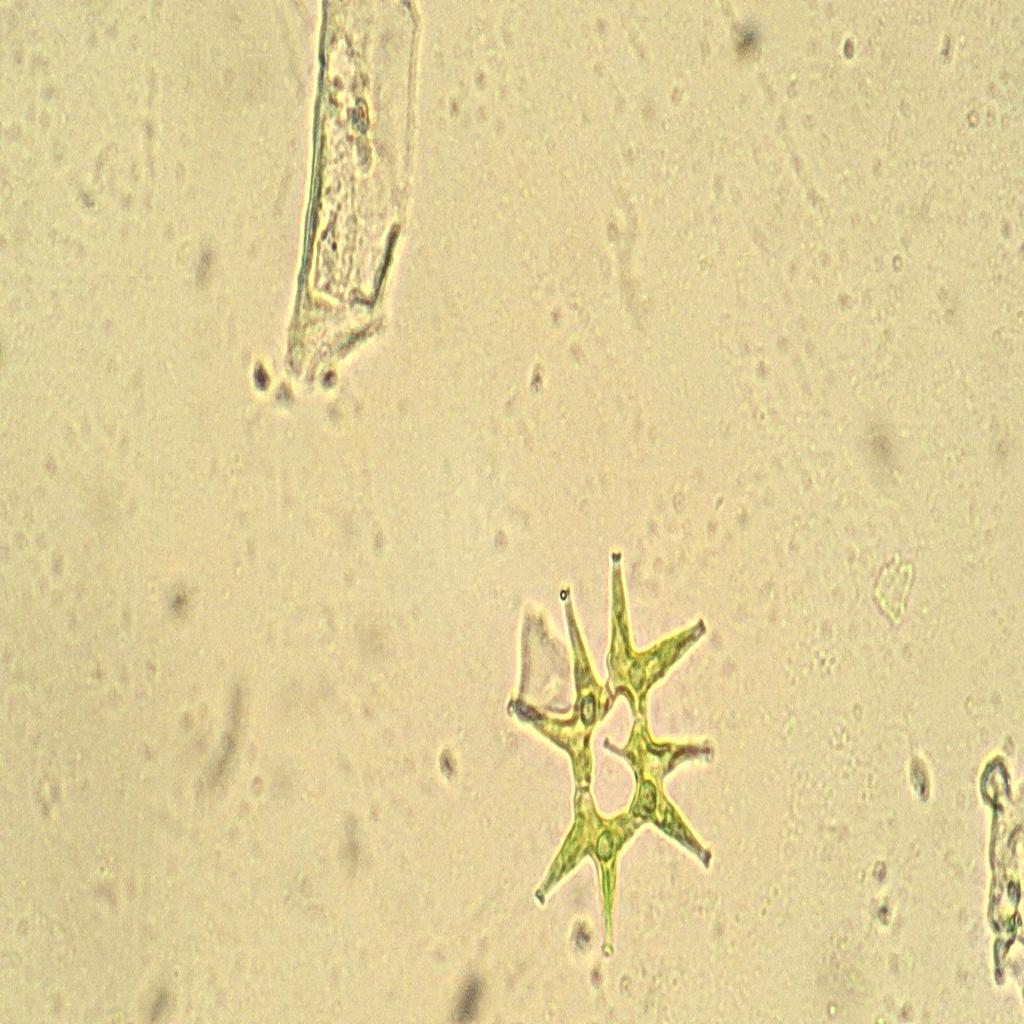Pediastrum_CF: (488, 522, 741, 964)
